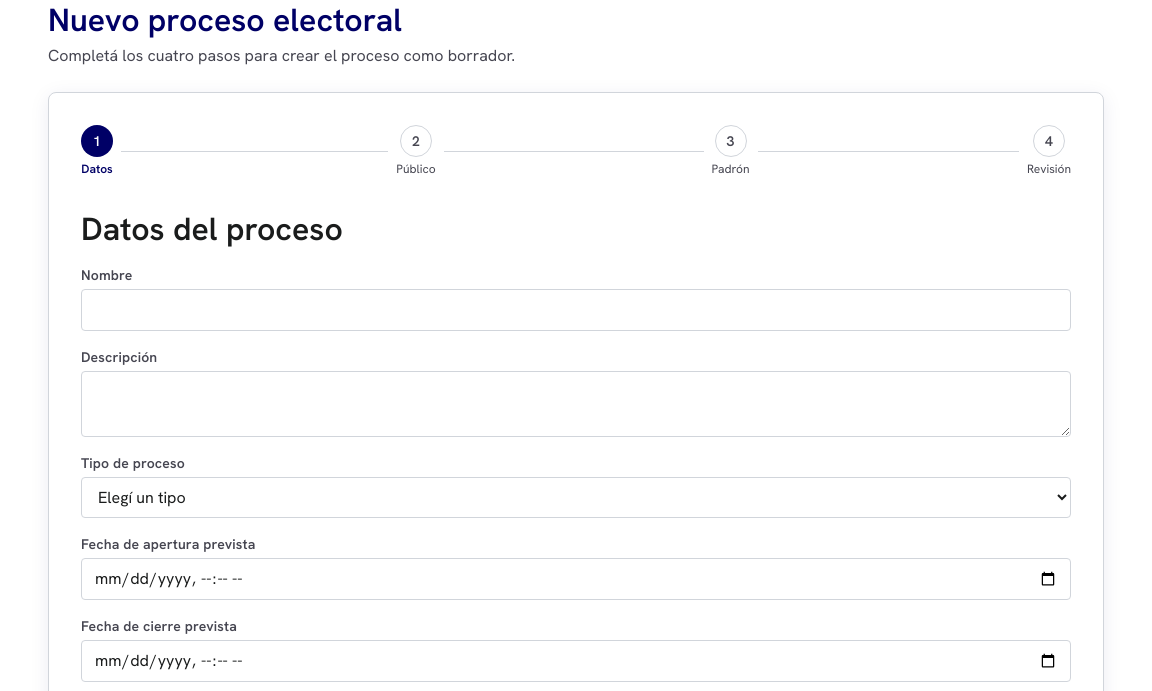
Scenario: ProcesoWizardPage › representante_aula no ofrece la opción institución en el paso 2
Type "Elección de aula" into the field labelled "Nombre" at (576,310), box [81, 289, 1071, 331]
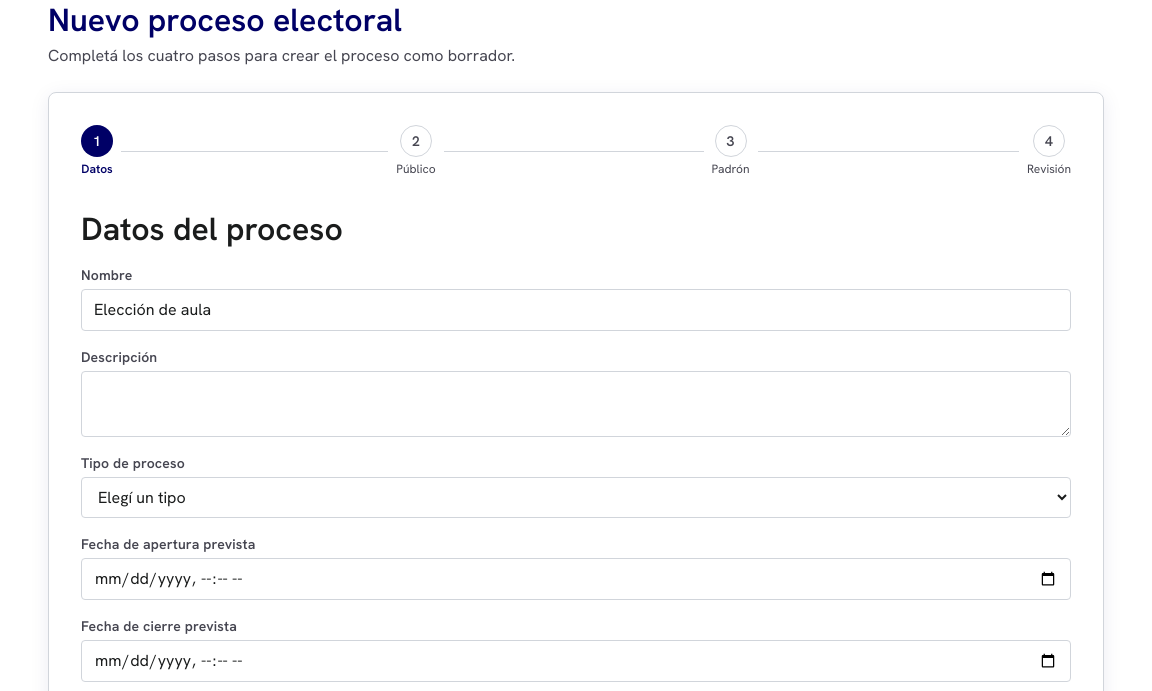
Select "Representante de aula" in the dropdown labelled "Tipo de proceso" at (576,498), box [81, 477, 1071, 518]
(page scrolled)
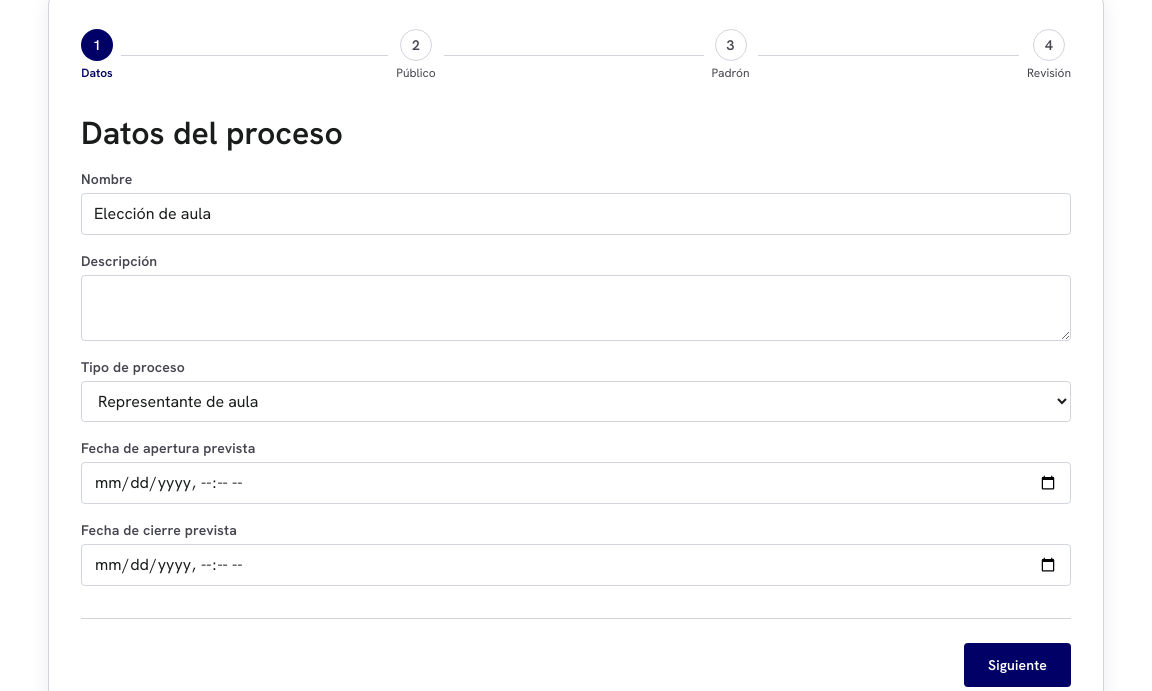
Click the button "Siguiente" at (1018,665), box [964, 643, 1071, 687]
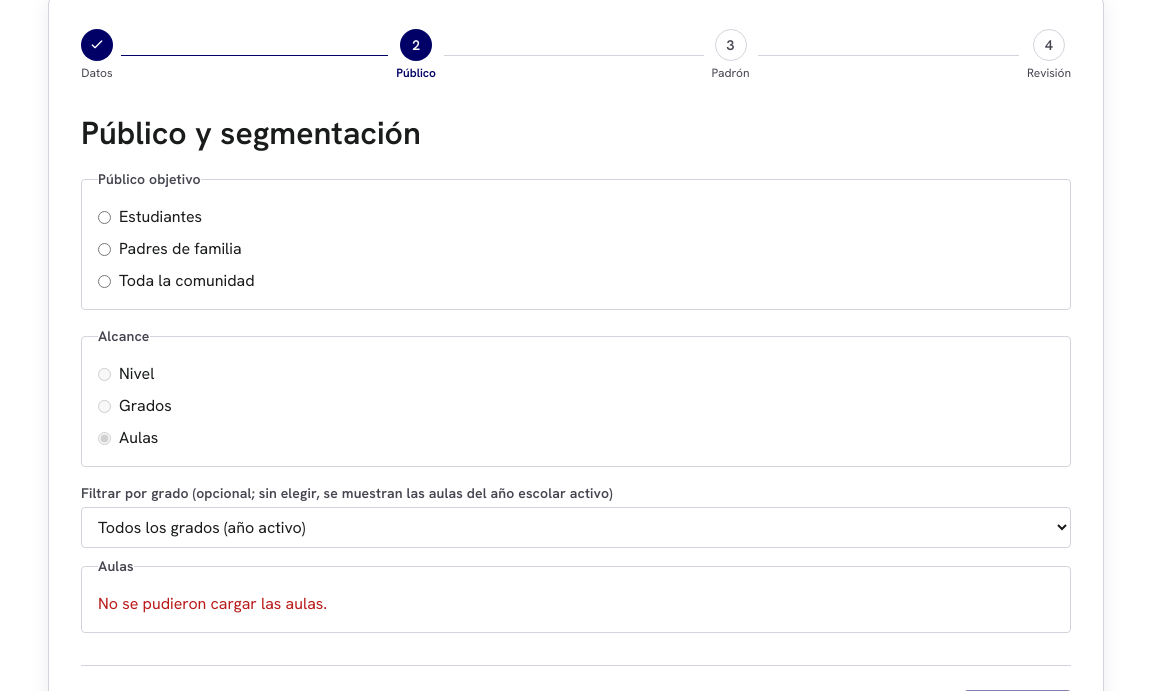
Now the radio button labelled "Aulas" is checked, box [98, 432, 111, 444]
